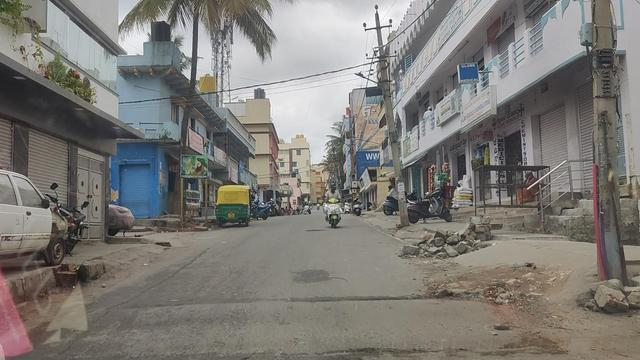RoadDamages: (283, 280, 465, 311)
